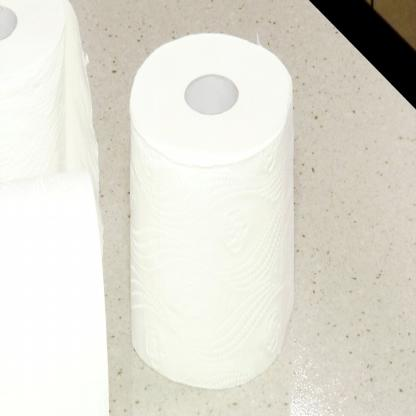tissue: (120, 29, 300, 394)
